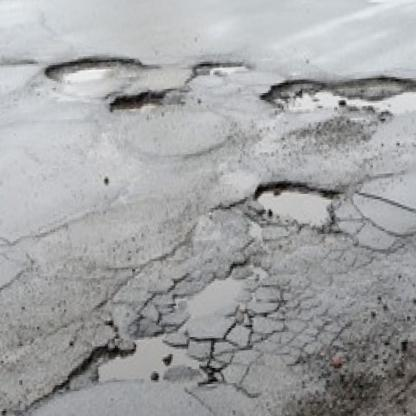pothole: (256, 67, 416, 121), (89, 330, 200, 386), (250, 172, 343, 238), (176, 263, 259, 320), (43, 53, 150, 86), (108, 89, 170, 120), (191, 59, 252, 78)
